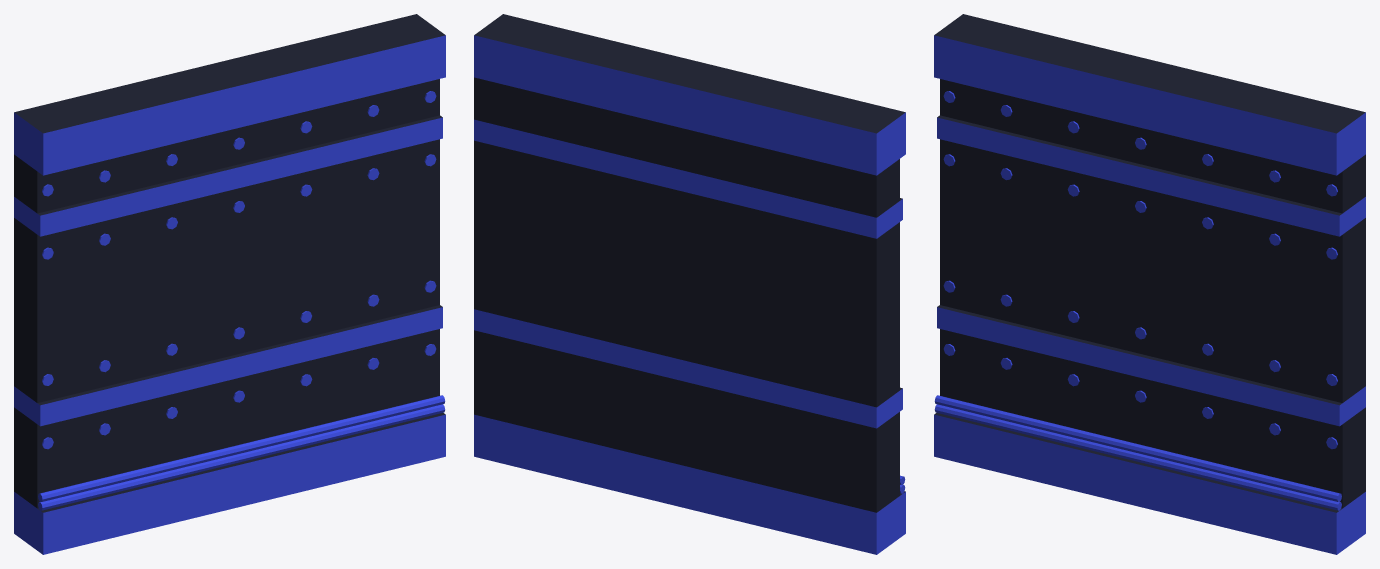
Rendered from Wall_A.fbx.
The picture shows the model from 3 angles, left to right: view 1: azimuth 30°, elevation 25°; view 2: azimuth 150°, elevation 25°; view 3: azimuth 330°, elevation 25°; orthographic projection.
Visible parts, largest first — view 1: Wall_A; view 2: Wall_A; view 3: Wall_A.
Boxes of the visible parts, x1=… form: Wall_A: x1=14, y1=14, x2=445, y2=554; Wall_A: x1=474, y1=14, x2=905, y2=554; Wall_A: x1=934, y1=14, x2=1365, y2=554.
Bounding box in the file's own units: 200 × 200 × 25.
